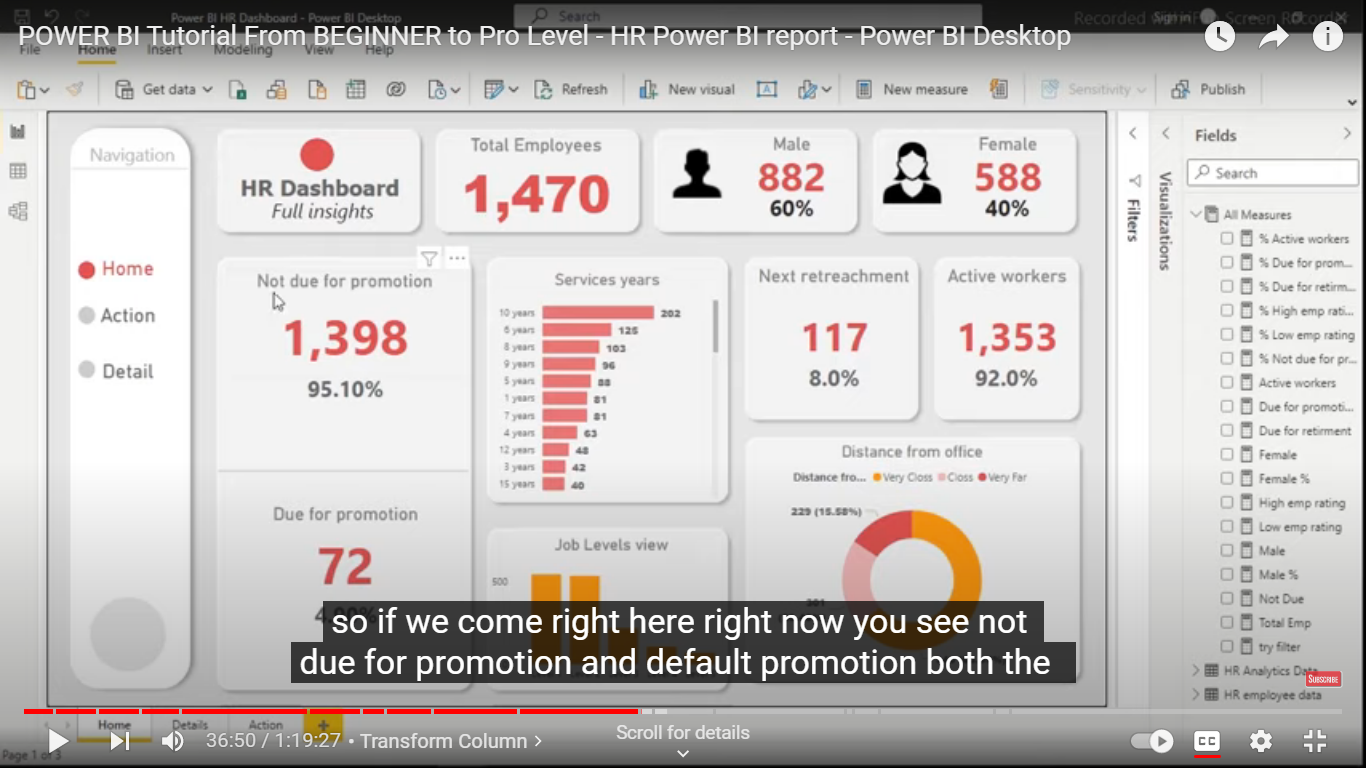

The dashboard page shown, as its layout file describes it:
{"tool":"powerbi","page":{"name":"Home","canvas":[1280,720],"ordinal":0},"visuals":[{"type":"basicShape","box":[139.9,7.2,268.6,144.1],"z":0},{"type":"basicShape","box":[0,0,136.1,720.6],"z":1000},{"type":"basicShape","box":[412.6,7.2,288.1,144.1],"z":2000},{"type":"basicShape","box":[702.8,7.2,288.1,144.1],"z":3000},{"type":"basicShape","box":[991.9,7.2,288.1,144.1],"z":4000},{"type":"basicShape","box":[139.9,151.3,402.3,564.9],"z":5000},{"type":"basicShape","box":[544.3,156.4,288.1,295.3],"z":6000},{"type":"basicShape","box":[834.9,157.9,232,191.5],"z":7000},{"type":"basicShape","box":[544.3,451.7,288.1,261.4],"z":8000},{"type":"basicShape","box":[835.5,348.8,444.5,364.2],"z":9000},{"type":"basicShape","box":[1071.7,157.9,204.9,191.5],"z":10000},{"type":"textbox","box":[172.3,74.7,203.1,51],"z":11000},{"type":"textbox","box":[195.2,103.7,152.1,37.8],"z":12000},{"type":"basicShape","box":[232.1,7,80,80.9],"z":13000},{"type":"card","fields":{"Values":["All Measures.Total Emp"]},"box":[412.4,50.6,287.9,72.9],"z":14000},{"type":"textbox","box":[412.4,15.6,287.9,36],"z":15000},{"type":"textbox","box":[809.2,11.7,177,36],"z":16000},{"type":"card","fields":{"Values":["All Measures.Male"]},"box":[809.2,30.2,181.9,84.6],"z":17000},{"type":"card","fields":{"Values":["All Measures.Male %"]},"box":[809.2,104.1,177,37.9],"z":18000},{"type":"image","box":[710,11.7,110.9,130.3],"z":19000},{"type":"card","fields":{"Values":["All Measures.Female"]},"box":[1096.4,34.3,181.9,84.6],"z":20000},{"type":"card","fields":{"Values":["All Measures.Female %"]},"box":[1099.1,108,177,37.9],"z":21000},{"type":"textbox","box":[1096.2,11.7,177,36],"z":22000},{"type":"image","box":[992.1,16.5,119.6,120.6],"z":23000},{"type":"textbox","box":[149.5,174.7,388,62.2],"z":24000},{"type":"card","fields":{"Values":["All Measures.NotPromoted"]},"box":[139.4,206.6,393.1,97.4],"z":25000},{"type":"card","fields":{"Values":["All Measures.NotPromoted %"]},"box":[144.5,304,393.1,72.2],"z":26000},{"type":"card","fields":{"Values":["All Measures.Promoted"]},"box":[134.3,508.4,393.1,97.4],"z":27000},{"type":"textbox","box":[144.4,476.5,388,62.2],"z":28000},{"type":"card","fields":{"Values":["All Measures.Promoted %"]},"box":[139.3,605.9,393.1,72.2],"z":29000},{"type":"basicShape","box":[134.4,426.7,409.9,20.2],"z":30000},{"type":"clusteredBarChart","title":"Service Year","fields":{"Category":["HR.ServiceYears"],"Y":["All Measures.Total Emp"]},"box":[547.6,174.7,285.6,272.1],"z":31000},{"type":"clusteredColumnChart","title":"Job Level","fields":{"Category":["HR.JobLevelName"],"Y":["All Measures.Total Emp"]},"box":[547.6,465.3,283.9,255.3],"z":32000},{"type":"textbox","box":[862.8,182.9,177,36],"z":33000},{"type":"card","fields":{"Values":["All Measures.NotFired"]},"box":[857.9,205.6,181.9,84.6],"z":34000},{"type":"card","fields":{"Values":["All Measures.NotFired %"]},"box":[862.8,279.2,177,37.9],"z":35000},{"type":"textbox","box":[1090.4,180.1,177,36],"z":36000},{"type":"card","fields":{"Values":["All Measures.Fired"]},"box":[1085.5,202.7,181.9,84.6],"z":37000},{"type":"card","fields":{"Values":["All Measures.Fired %"]},"box":[1090.4,276.4,177,37.9],"z":38000},{"type":"donutChart","fields":{"Y":["All Measures.Total Emp"],"Series":["HR.DistanceStatus"]},"box":[834.9,359.5,438.4,354.4],"z":39000},{"type":"actionButton","box":[23.5,248.3,109.2,50.4],"z":40000},{"type":"basicShape","box":[3.5,262.6,30.2,28.6],"z":41000},{"type":"actionButton","box":[23.4,314.3,109.2,50.4],"z":42000},{"type":"basicShape","box":[3.4,327.8,30.2,28.6],"z":43000},{"type":"actionButton","box":[24.8,385.8,109.2,50.4],"z":44000},{"type":"basicShape","box":[5,397.2,30.2,28.6],"z":45000},{"type":"basicShape","box":[0,39.3,143.9,25],"z":47000},{"type":"textbox","title":"Navigation","box":[0,16.7,133.2,30.9],"z":47001}]}

Visuals, with their boxes on the page's 1280x720 design canvas (x1, y1, x2, y2). These are canvas units, not pixel positions in the 1366x768 screenshot, which may show the page scaled, cropped or inside an application window:
basicShape: [140, 7, 408, 151]
basicShape: [0, 0, 136, 721]
basicShape: [413, 7, 701, 151]
basicShape: [703, 7, 991, 151]
basicShape: [992, 7, 1280, 151]
basicShape: [140, 151, 542, 716]
basicShape: [544, 156, 832, 452]
basicShape: [835, 158, 1067, 349]
basicShape: [544, 452, 832, 713]
basicShape: [836, 349, 1280, 713]
basicShape: [1072, 158, 1277, 349]
textbox: [172, 75, 375, 126]
textbox: [195, 104, 347, 142]
basicShape: [232, 7, 312, 88]
card - All Measures.Total Emp: [412, 51, 700, 124]
textbox: [412, 16, 700, 52]
textbox: [809, 12, 986, 48]
card - All Measures.Male: [809, 30, 991, 115]
card - All Measures.Male %: [809, 104, 986, 142]
image: [710, 12, 821, 142]
card - All Measures.Female: [1096, 34, 1278, 119]
card - All Measures.Female %: [1099, 108, 1276, 146]
textbox: [1096, 12, 1273, 48]
image: [992, 16, 1112, 137]
textbox: [150, 175, 538, 237]
card - All Measures.NotPromoted: [139, 207, 532, 304]
card - All Measures.NotPromoted %: [144, 304, 538, 376]
card - All Measures.Promoted: [134, 508, 527, 606]
textbox: [144, 476, 532, 539]
card - All Measures.Promoted %: [139, 606, 532, 678]
basicShape: [134, 427, 544, 447]
"Service Year" clusteredBarChart: [548, 175, 833, 447]
"Job Level" clusteredColumnChart: [548, 465, 832, 721]
textbox: [863, 183, 1040, 219]
card - All Measures.NotFired: [858, 206, 1040, 290]
card - All Measures.NotFired %: [863, 279, 1040, 317]
textbox: [1090, 180, 1267, 216]
card - All Measures.Fired: [1086, 203, 1267, 287]
card - All Measures.Fired %: [1090, 276, 1267, 314]
donutChart - All Measures.Total Emp x HR.DistanceStatus: [835, 360, 1273, 714]
actionButton: [24, 248, 133, 299]
basicShape: [4, 263, 34, 291]
actionButton: [23, 314, 133, 365]
basicShape: [3, 328, 34, 356]
actionButton: [25, 386, 134, 436]
basicShape: [5, 397, 35, 426]
basicShape: [0, 39, 144, 64]
"Navigation" textbox: [0, 17, 133, 48]
